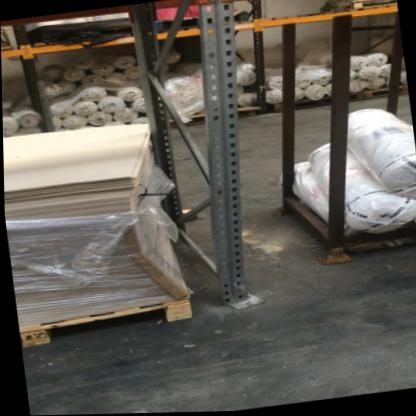vertical_damage: (203, 265, 263, 317)
